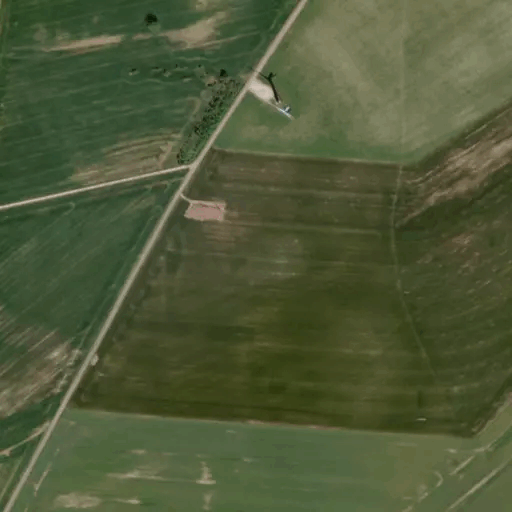wt: (250, 64, 295, 121)
